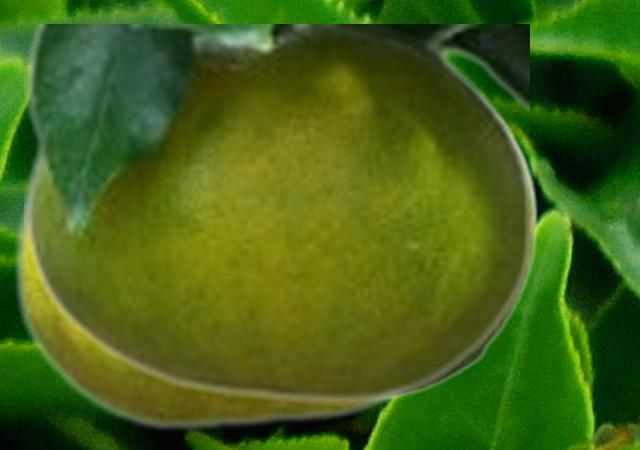dalandan: (24, 24, 528, 404), (12, 189, 405, 432)
